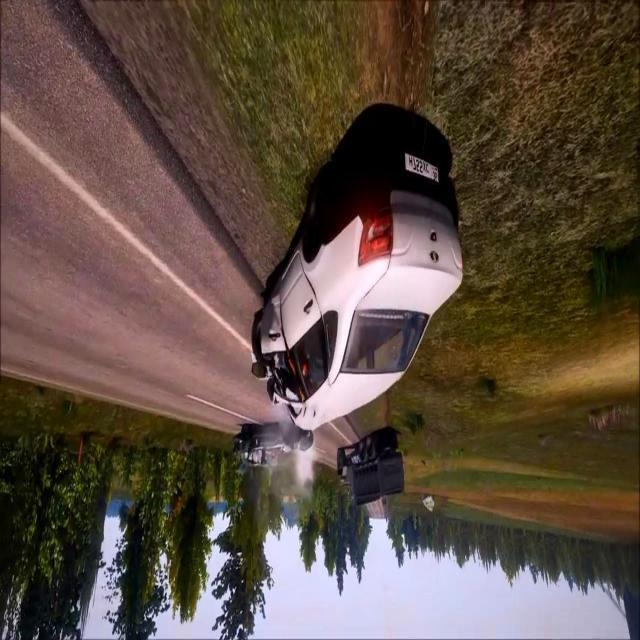severe: (247, 123, 468, 446), (236, 420, 316, 470)
